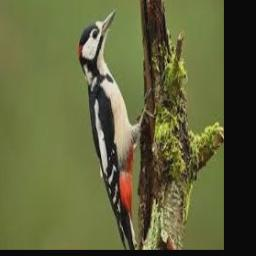Woodpecker: (79, 8, 156, 250)
